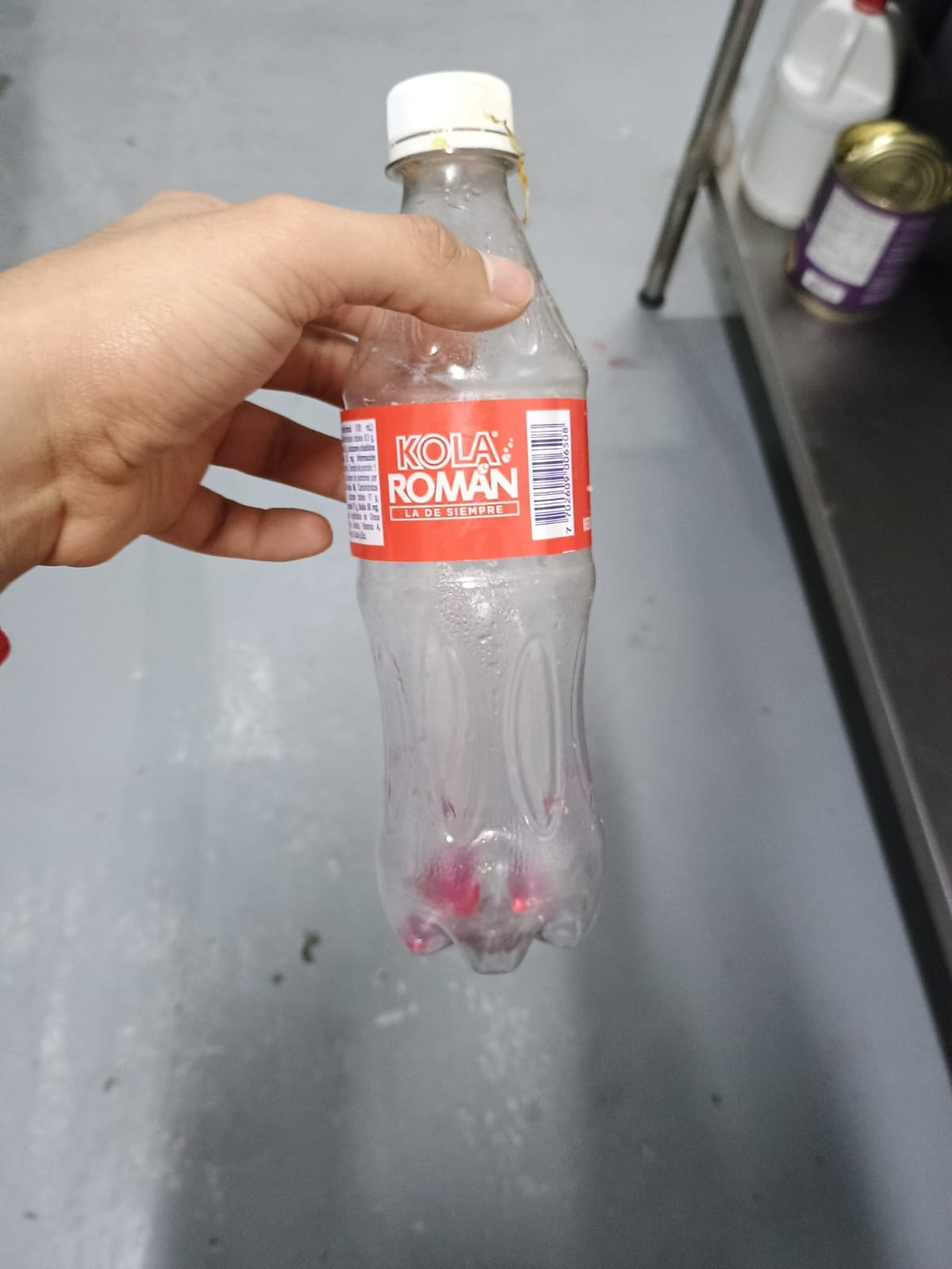Plastico: (340, 71, 607, 977)
